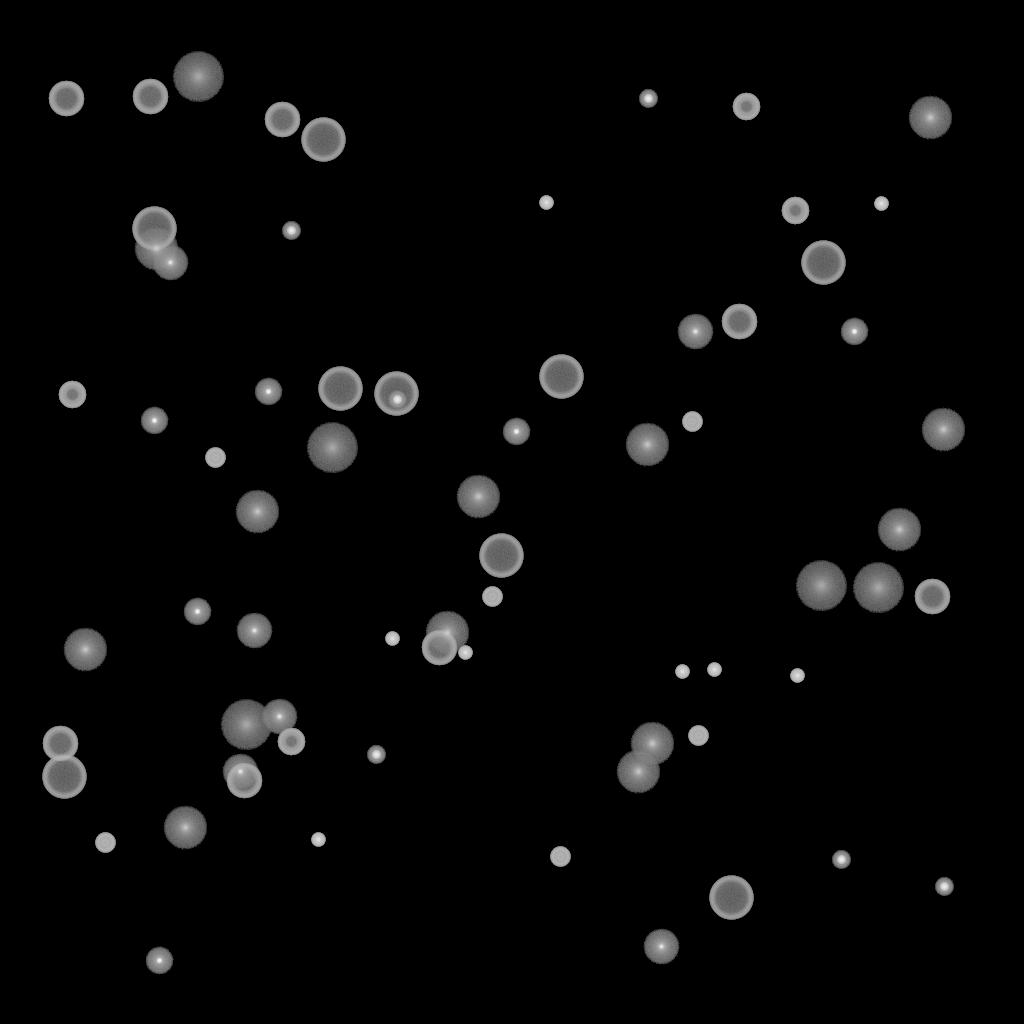depth:-10: (183, 598, 211, 626), (840, 318, 868, 346), (254, 378, 282, 406), (502, 418, 530, 446), (140, 407, 168, 435), (145, 947, 173, 975)
depth:-20: (935, 878, 953, 896), (282, 222, 300, 240), (639, 90, 657, 108), (832, 851, 850, 869), (388, 391, 406, 409), (367, 746, 385, 764)
depth:-30: (874, 197, 888, 211), (385, 632, 399, 646), (539, 196, 553, 210), (790, 669, 804, 683), (675, 665, 689, 679), (311, 833, 325, 847), (458, 646, 472, 660), (707, 663, 721, 677)
depth:-40: (205, 448, 225, 468), (688, 726, 708, 746), (682, 412, 702, 432), (550, 847, 570, 867), (482, 587, 502, 607), (95, 833, 115, 853)
depth:-50: (781, 197, 809, 225), (277, 728, 305, 756), (58, 381, 86, 409), (732, 93, 760, 121)
depth:-60: (914, 579, 950, 615), (48, 81, 84, 117), (264, 102, 300, 138), (132, 79, 168, 115), (226, 763, 262, 799), (42, 726, 78, 762), (721, 304, 757, 340), (421, 630, 457, 666)
depth:-70: (374, 372, 418, 416), (318, 367, 362, 411), (539, 355, 583, 399), (132, 207, 176, 251), (479, 534, 523, 578), (42, 755, 86, 799), (301, 118, 345, 162), (709, 876, 753, 920), (801, 241, 845, 285)
depth:0: (677, 314, 713, 350), (236, 613, 272, 649), (261, 699, 297, 735), (152, 245, 188, 281), (222, 754, 258, 790), (643, 929, 679, 965)
depth:10: (425, 611, 469, 655), (630, 722, 674, 766), (456, 475, 500, 519), (921, 408, 965, 452), (63, 628, 107, 672), (625, 423, 669, 467), (134, 227, 178, 271), (908, 96, 952, 140), (163, 806, 207, 850), (616, 750, 660, 794), (235, 490, 279, 534), (877, 508, 921, 552)
depth:20: (220, 700, 272, 750), (852, 563, 904, 613), (795, 561, 847, 611), (306, 423, 358, 473), (172, 52, 224, 102)
